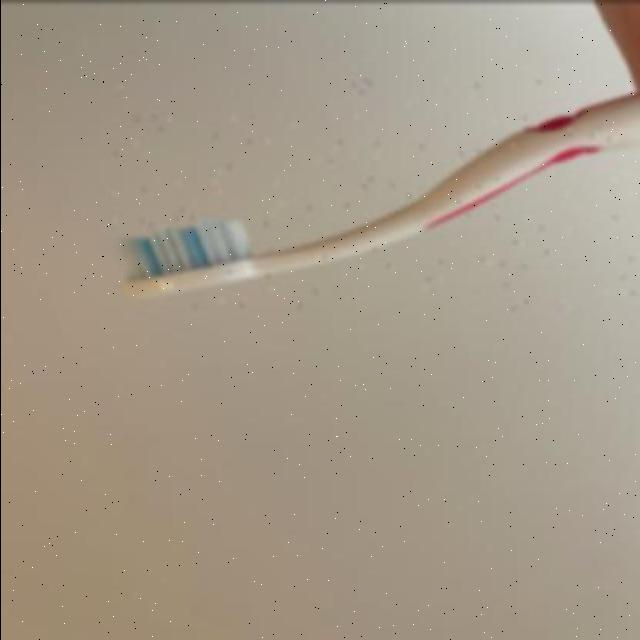toothbrush: (102, 77, 640, 307)
